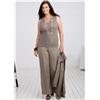canottiera: (39, 16, 58, 48)
giacca: (51, 51, 68, 99)
pantaloni: (38, 48, 58, 94)
